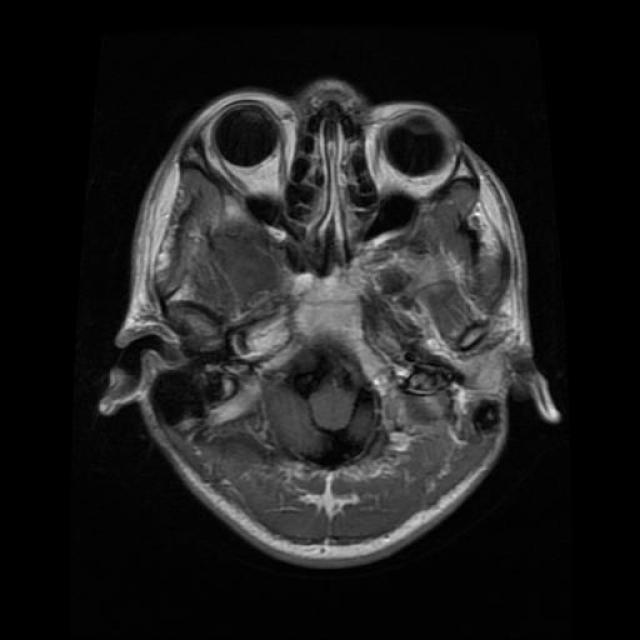Brain-Tumor: (120, 324, 300, 462)
eye: (191, 78, 318, 239), (356, 75, 468, 240)
